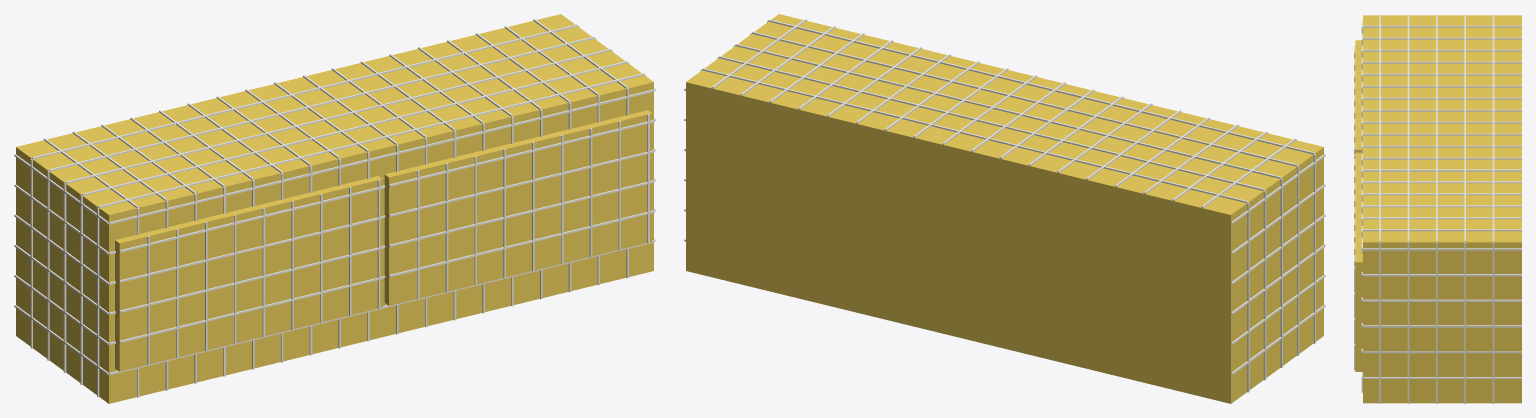
File: store-tv-unit.glb
3 views of the same model, side by side, from view 1: azimuth 30°, elevation 25°; view 2: azimuth 150°, elevation 25°; view 3: azimuth 270°, elevation 25° (orthographic). The views are drawn at different scales.
Parts seen in each view (by area): view 1: tv-body, tv-drawer-0, tv-drawer-1, tv-body-front-h-5, tv-body-top-z-0, tv-body-top-z-4, tv-body-top-z-1, tv-body-top-z-2, tv-body-top-z-3, tv-body-front-h-0, tv-drawer-1-front-h-0, tv-drawer-1-front-h-3 (+7 smaller); view 2: tv-body, tv-body-top-z-3, tv-body-top-z-4, tv-body-top-z-1, tv-body-top-z-0, tv-body-top-z-2, tv-body-left-z-1; view 3: tv-body, tv-drawer-1, tv-drawer-0, tv-body-top-z-3, tv-body-top-z-0, tv-body-right-z-0, tv-body-right-z-3, tv-body-top-x-3, tv-body-top-x-11, tv-body-top-x-9, tv-body-top-x-12, tv-body-top-x-13 (+27 smaller).
Part boxes in pixels (x1,y1,x2,y2): tv-body: (16,14,653,403); tv-drawer-0: (115,176,382,371); tv-drawer-1: (384,110,652,305); tv-body-front-h-5: (109,89,654,224); tv-body-top-z-0: (32,24,577,159); tv-body-top-z-4: (98,73,644,207); tv-body-top-z-1: (48,36,594,171); tv-body-top-z-2: (65,48,611,183); tv-body-top-z-3: (82,61,627,195); tv-body-front-h-0: (109,240,654,375); tv-drawer-1-front-h-0: (389,210,653,277); tv-drawer-1-front-h-3: (389,120,653,186); tv-body: (686,14,1323,403); tv-body-top-z-3: (752,31,1297,166); tv-body-top-z-4: (768,19,1314,154); tv-body-top-z-1: (718,56,1264,190); tv-body-top-z-0: (702,68,1247,203); tv-body-top-z-2: (735,43,1281,178); tv-body-left-z-1: (1263,190,1266,380); tv-body: (1363,15,1521,403); tv-drawer-1: (1355,152,1362,371); tv-drawer-0: (1355,40,1361,152); tv-body-top-z-3: (1407,14,1409,242); tv-body-top-z-0: (1492,14,1494,242); tv-body-right-z-0: (1492,242,1494,403); tv-body-right-z-3: (1407,242,1409,403); tv-body-top-x-3: (1363,61,1521,63); tv-body-top-x-11: (1363,157,1521,159); tv-body-top-x-9: (1363,133,1521,135); tv-body-top-x-12: (1363,169,1521,171); tv-body-top-x-13: (1363,181,1521,183).
Bounding box in the file's own units: 1.43 × 0.4737 × 0.4437.
